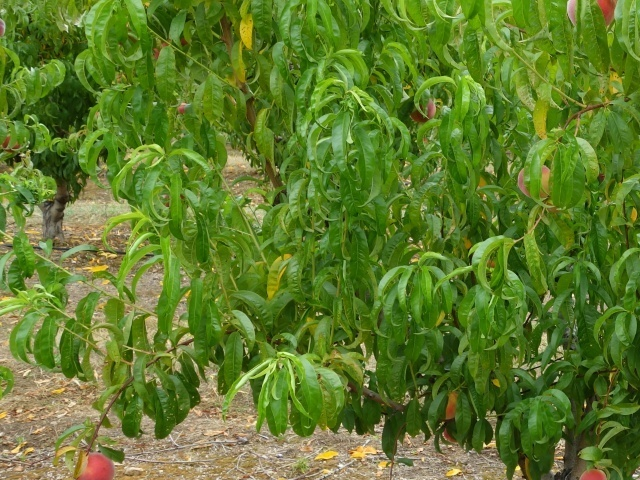peach: (561, 1, 617, 34), (514, 161, 557, 203), (72, 449, 118, 479), (407, 96, 437, 128), (574, 465, 610, 479)
